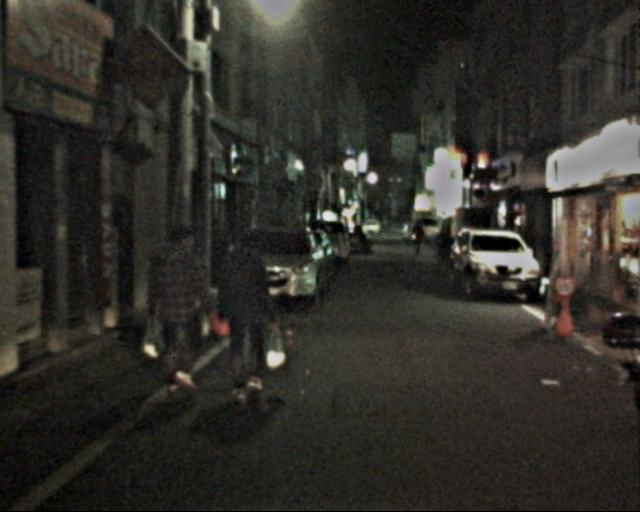person: (212, 230, 282, 404), (147, 223, 215, 390), (411, 222, 425, 255)
